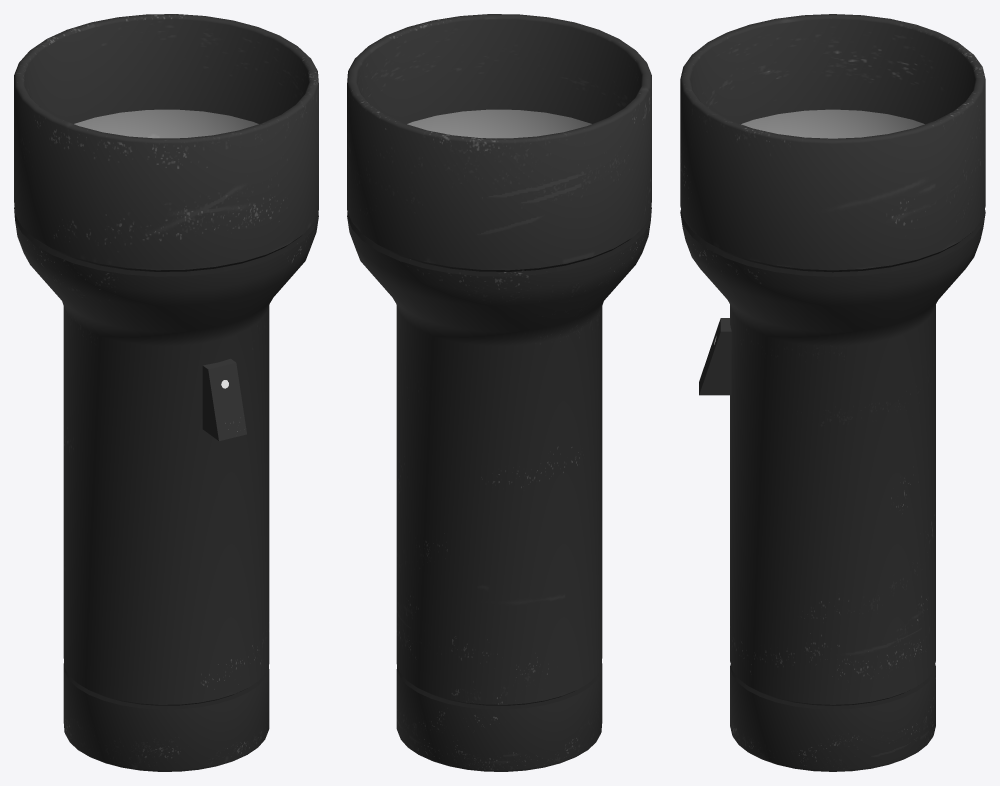
Rendered from Flashlight.fbx.
3 renders of one model, left to right at view 1: azimuth 30°, elevation 25°; view 2: azimuth 150°, elevation 25°; view 3: azimuth 270°, elevation 25°, orthographic.
Parts seen in each view (by area): view 1: flashlight; view 2: flashlight; view 3: flashlight.
Boxes of the visible parts, <box> form: flashlight: <box>14,14,318,771</box>; flashlight: <box>347,14,651,771</box>; flashlight: <box>680,14,985,771</box>.
Bounding box in the file's own units: 8.34 × 20 × 8.34.
